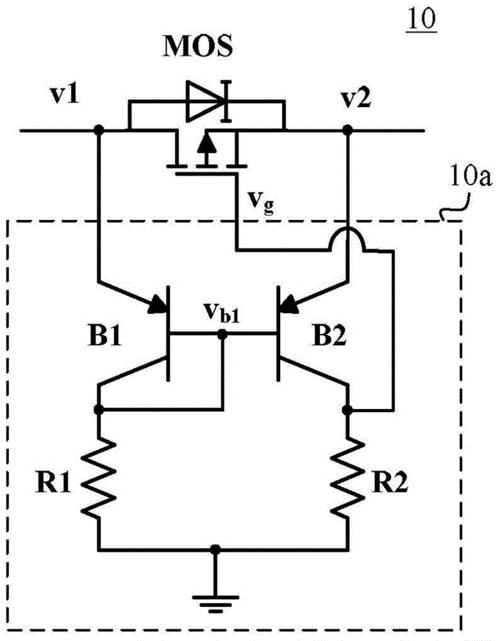diode: (179, 72, 233, 128)
gnd: (187, 586, 245, 618)
mos: (162, 123, 251, 190)
res2: (323, 428, 370, 526), (79, 432, 119, 532)
triode: (82, 263, 180, 396), (263, 274, 361, 390)
